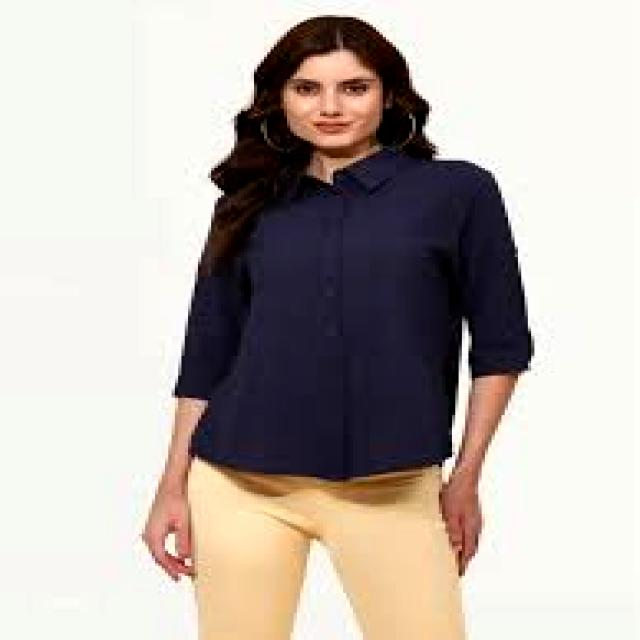face: (281, 50, 385, 153)
lower-wear: (189, 458, 465, 639)
top-wear: (175, 146, 534, 479)
